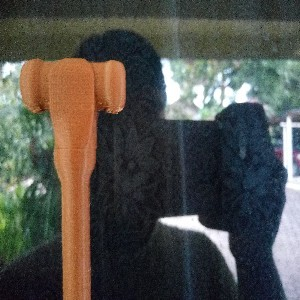palu: (18, 56, 127, 300)
